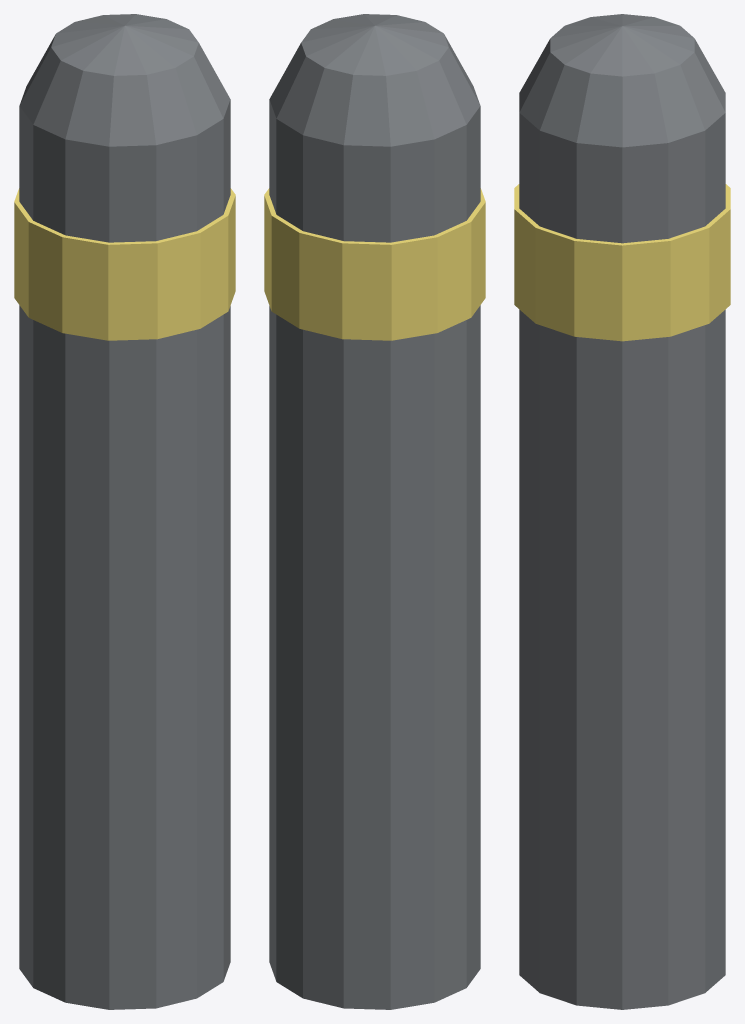
Rendered from bollard.glb.
3 renders of one model, left to right at view 1: azimuth 30°, elevation 25°; view 2: azimuth 150°, elevation 25°; view 3: azimuth 270°, elevation 25°, orthographic.
Visible parts, largest first — view 1: bollard_steel_d, bollard_paint_y; view 2: bollard_steel_d, bollard_paint_y; view 3: bollard_steel_d, bollard_paint_y.
Boxes of the visible parts, left/top/right/bottom form: bollard_steel_d: left=19, top=14, right=230, bottom=1009; bollard_paint_y: left=14, top=188, right=235, bottom=340; bollard_steel_d: left=269, top=14, right=480, bottom=1009; bollard_paint_y: left=264, top=188, right=485, bottom=340; bollard_steel_d: left=519, top=14, right=725, bottom=1009; bollard_paint_y: left=514, top=184, right=730, bottom=341.
Bounding box in the file's own units: 0.21 × 0.98 × 0.2047.
